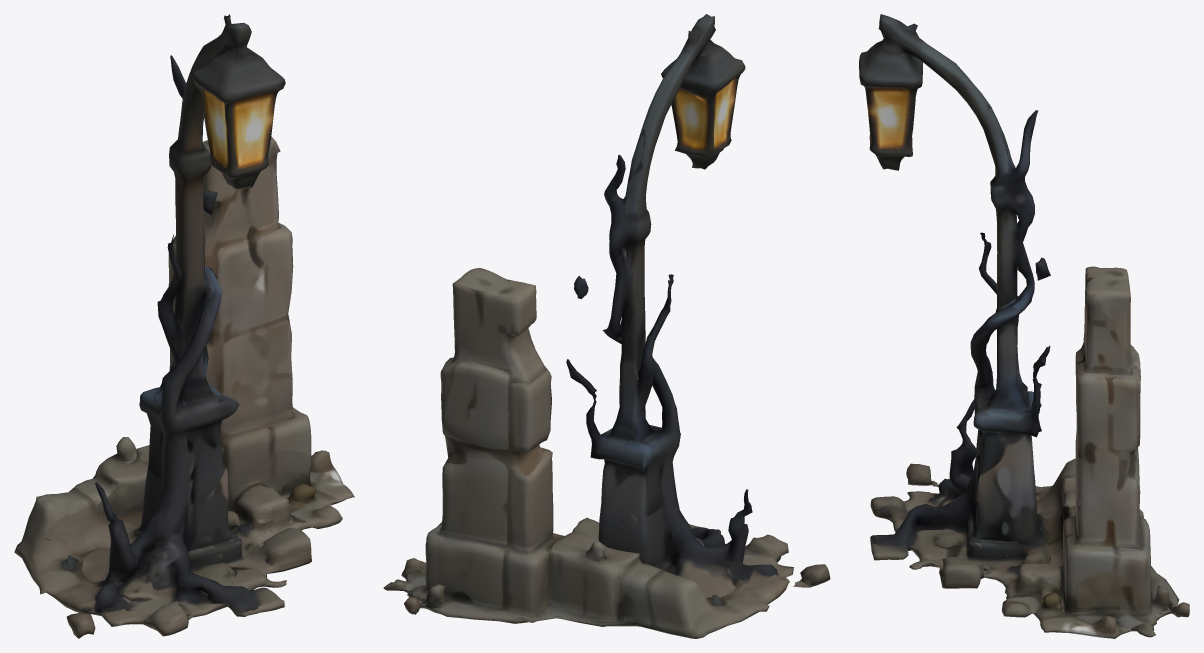
File: SM_Environment_FantasyRuin_03.fbx
The picture shows the model from 3 angles, left to right: view 1: azimuth 30°, elevation 25°; view 2: azimuth 150°, elevation 25°; view 3: azimuth 270°, elevation 25°; orthographic projection. The views are drawn at different scales.
Visible parts, largest first — view 1: SM_Environment_FantasyRuin_03; view 2: SM_Environment_FantasyRuin_03; view 3: SM_Environment_FantasyRuin_03.
Part boxes in pixels (box(x1,y1,x2,y2)): SM_Environment_FantasyRuin_03: box(14, 14, 354, 638); SM_Environment_FantasyRuin_03: box(383, 14, 830, 638); SM_Environment_FantasyRuin_03: box(859, 14, 1189, 638).
Size of the model in its own units: 0.6505 by 0.9968 by 0.5662.
Materials: 1 (1 with a texture image).
